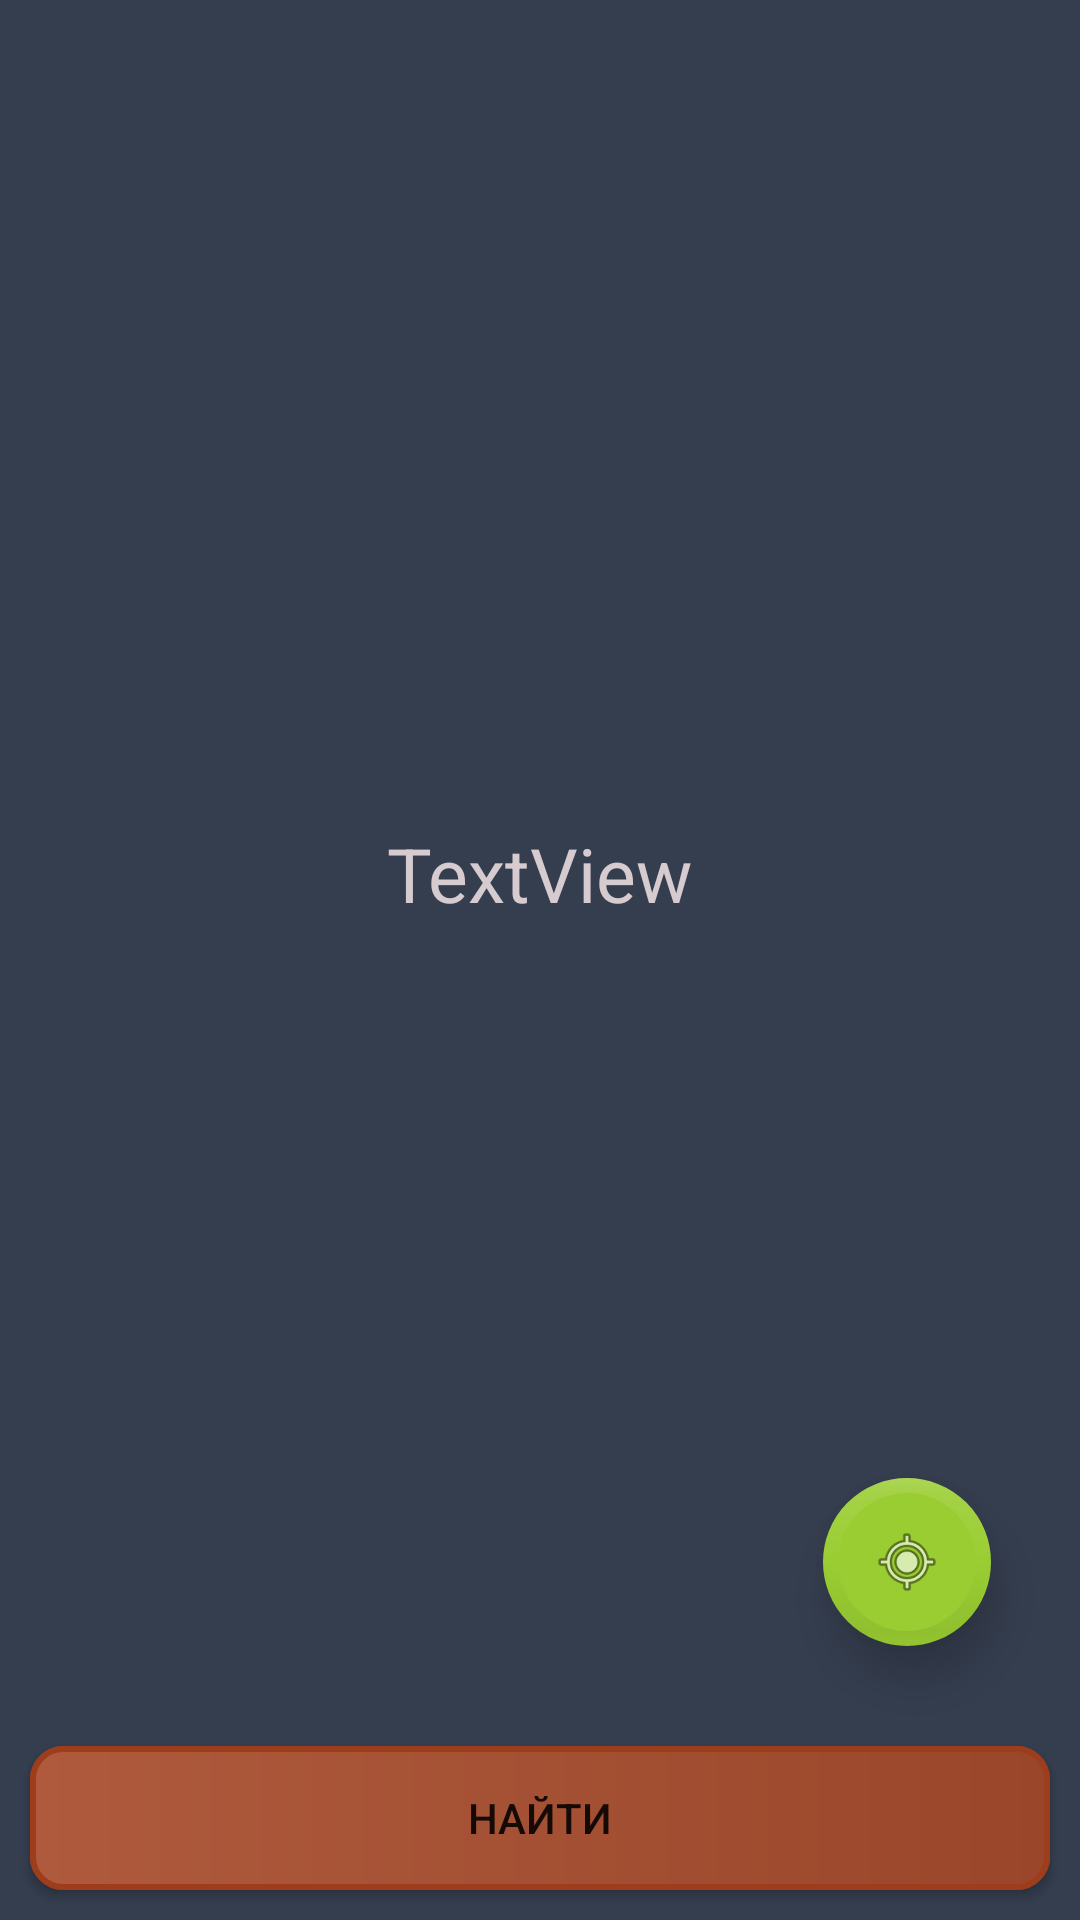

Named icons in this screenshot (1080x1920) and their bounding boxes, (x1, y1, x2, y2):
mylocation: (823, 1478, 991, 1646)
